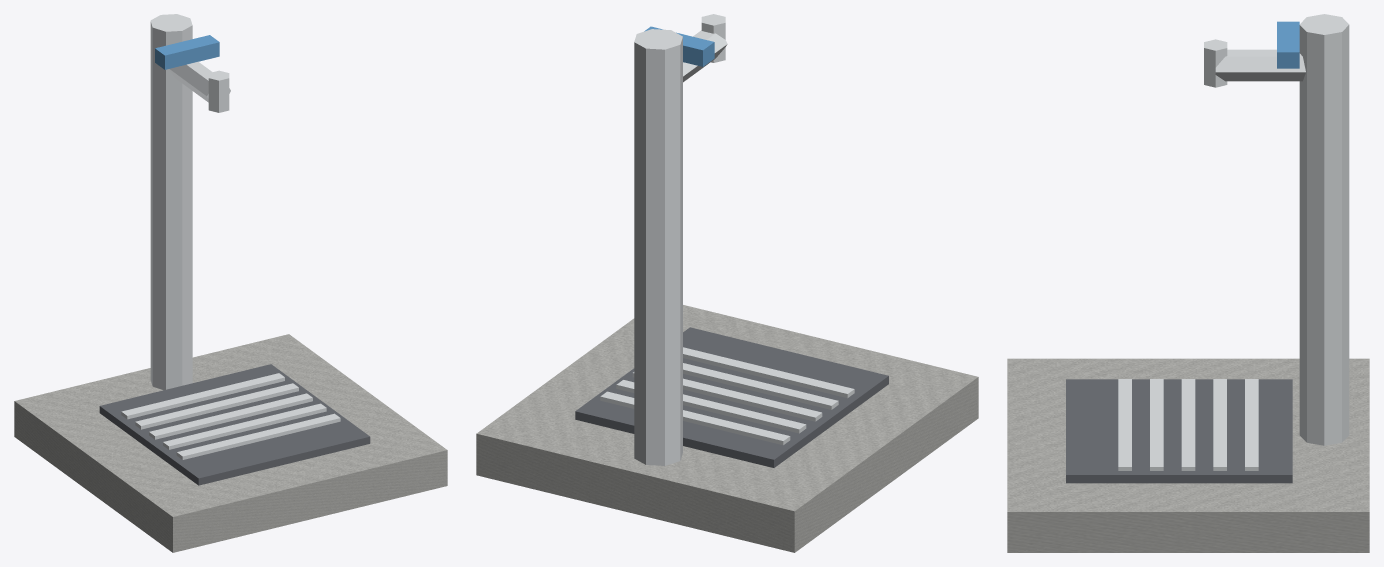
Rendered from caravan-park-and-campsite-water-point-e404d250__35360.glb.
3 views of the same model, side by side, from view 1: azimuth 30°, elevation 25°; view 2: azimuth 150°, elevation 25°; view 3: azimuth 270°, elevation 25° (orthographic). The views are drawn at different scales.
Parts seen in each view (by area): view 1: water-point-hard, water-point-galv, water-point-charcoal, water-point-azure; view 2: water-point-hard, water-point-galv, water-point-charcoal, water-point-azure; view 3: water-point-hard, water-point-galv, water-point-charcoal, water-point-azure.
Boxes of the visible parts, bbox=[...] form: water-point-hard: bbox=[14, 334, 447, 552]; water-point-galv: bbox=[121, 14, 340, 459]; water-point-charcoal: bbox=[99, 364, 370, 485]; water-point-azure: bbox=[155, 35, 219, 69]; water-point-hard: bbox=[476, 305, 978, 552]; water-point-galv: bbox=[600, 14, 854, 465]; water-point-charcoal: bbox=[575, 327, 888, 467]; water-point-azure: bbox=[644, 26, 714, 66]; water-point-hard: bbox=[1007, 358, 1369, 552]; water-point-galv: bbox=[1118, 14, 1349, 470]; water-point-charcoal: bbox=[1066, 379, 1292, 483]; water-point-azure: bbox=[1277, 21, 1299, 68].
Bounding box in the file's own units: 0.8 × 1.1 × 0.8.
Materials: 4 (1 with a texture image).
